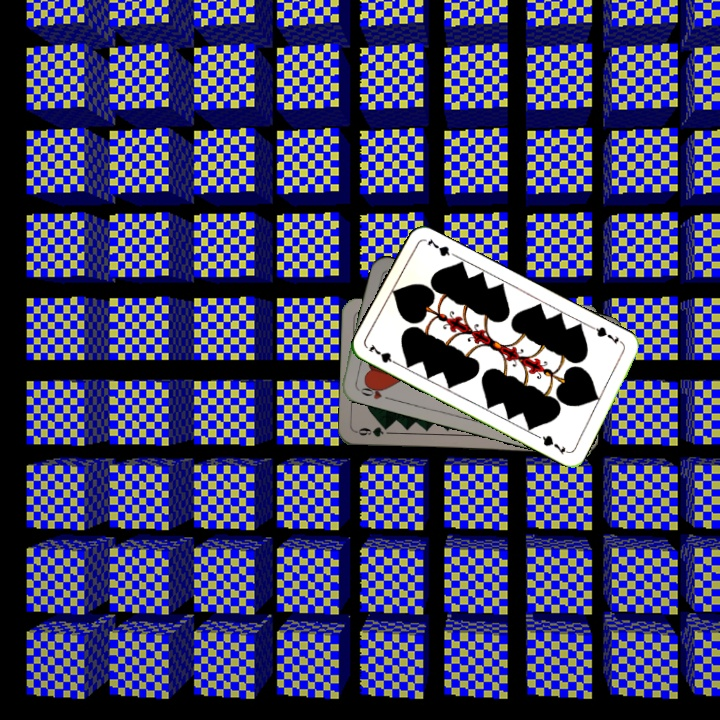G7: (364, 340, 402, 368), (588, 323, 626, 347)
G9: (353, 423, 386, 439)
HO: (354, 379, 393, 402)
